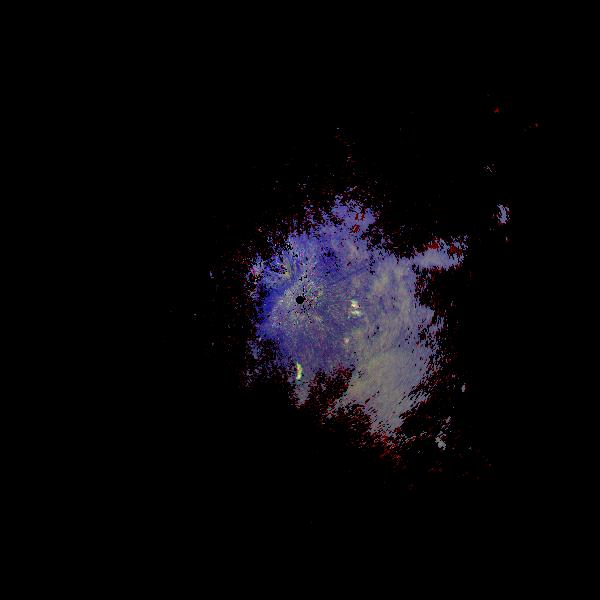roost: (284, 362, 305, 383), (342, 300, 363, 321), (432, 435, 453, 456)
